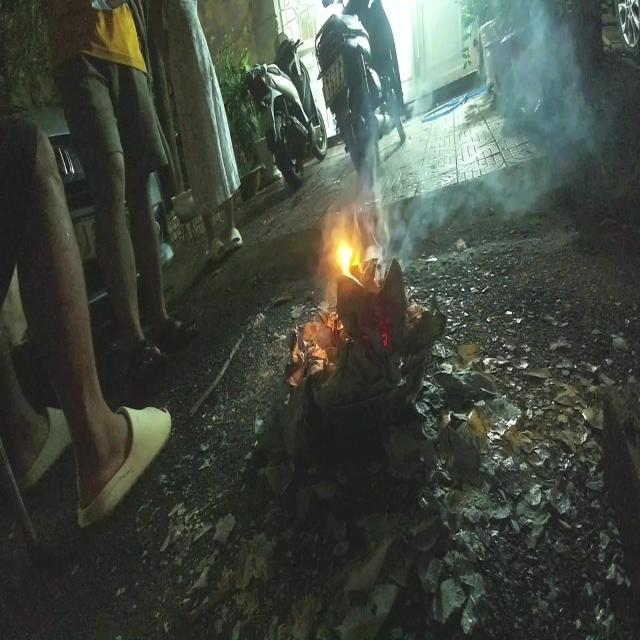Fire: (315, 144, 411, 306)
